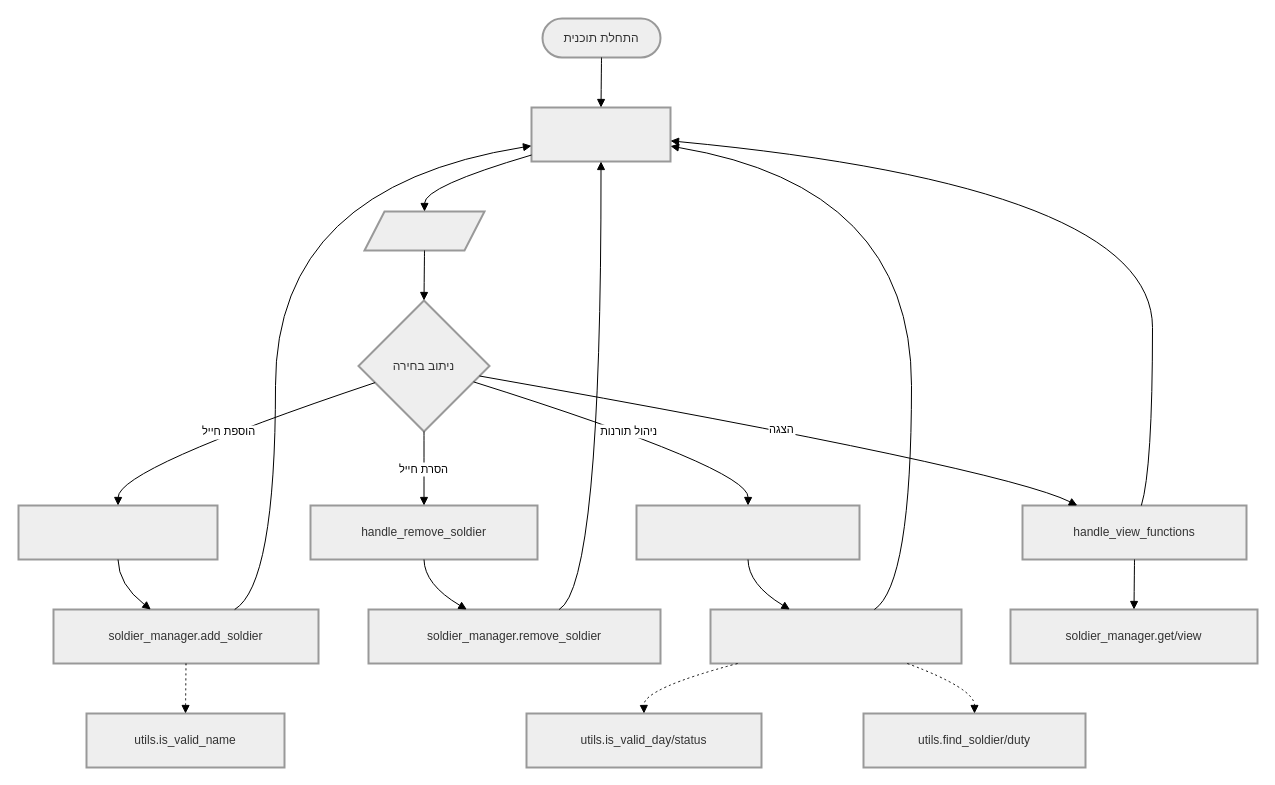
Some shapes in this 1275 by 785 pixel diagram are drawn without their labels. The shapes that lost their labels are listed below. From the top down, each one's box as (x1, y1, x2, y2) in pixels, then its label:
(530, 106, 671, 162): הצגת תפריט
(363, 210, 485, 251): קבלת קלט
(17, 504, 218, 560): handle_add_soldier
(635, 504, 860, 560): handle_duty_functions
(709, 608, 962, 664): duty_manager.add/update
